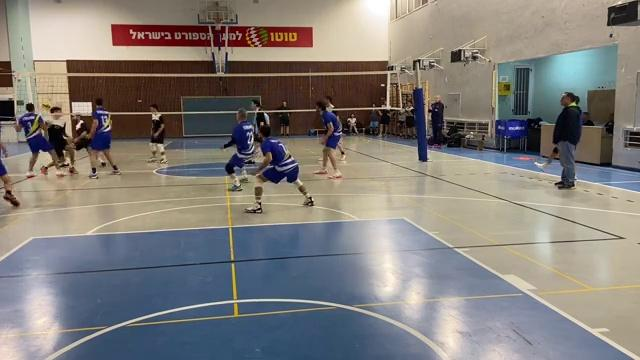ball: (38, 100, 55, 113)
